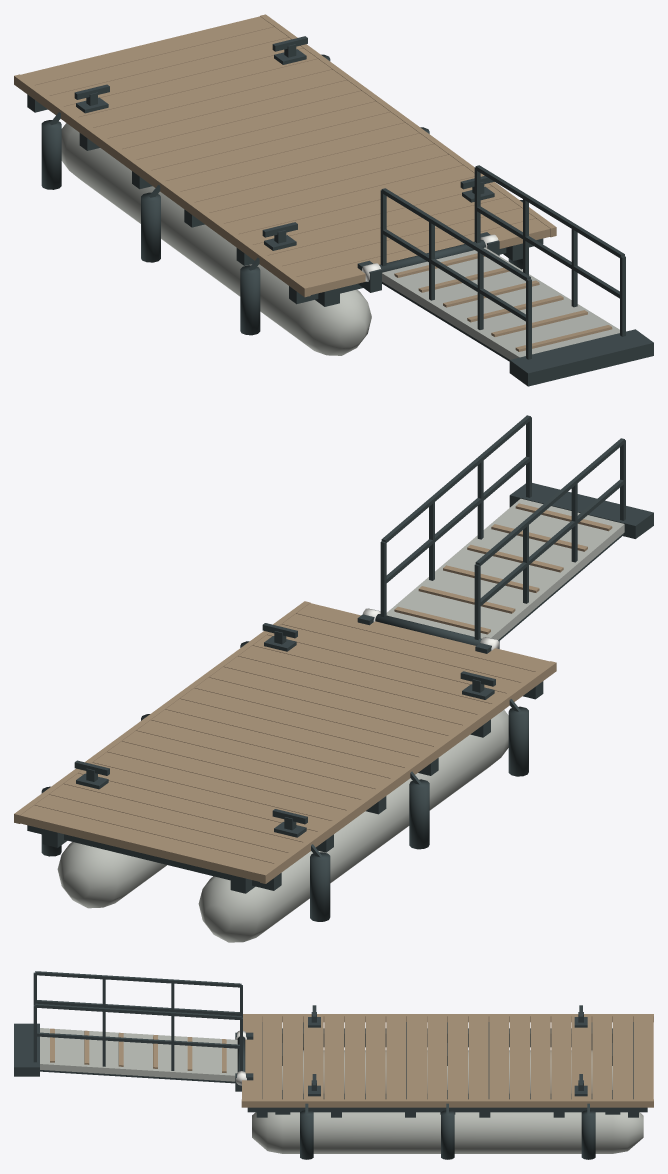
Rendered from ENV_FloatingPontoon.fbx.
The picture shows the model from 3 angles, top to bottom: view 1: azimuth 30°, elevation 25°; view 2: azimuth 150°, elevation 25°; view 3: azimuth 270°, elevation 25°; orthographic projection. The views are drawn at different scales.
Visible parts, largest first — view 1: ENV_FloatingPontoon_Root_Visual, GangwayHinge_Visual; view 2: ENV_FloatingPontoon_Root_Visual, GangwayHinge_Visual; view 3: ENV_FloatingPontoon_Root_Visual, GangwayHinge_Visual.
Part boxes in pixels (box(x1,y1,x2,y2)): ENV_FloatingPontoon_Root_Visual: box(14, 14, 653, 386); GangwayHinge_Visual: box(380, 165, 625, 361); ENV_FloatingPontoon_Root_Visual: box(14, 483, 653, 942); GangwayHinge_Visual: box(380, 415, 625, 640); ENV_FloatingPontoon_Root_Visual: box(14, 1005, 653, 1159); GangwayHinge_Visual: box(33, 971, 242, 1083).
Bounding box in the file's own units: 341 × 223 × 931.
